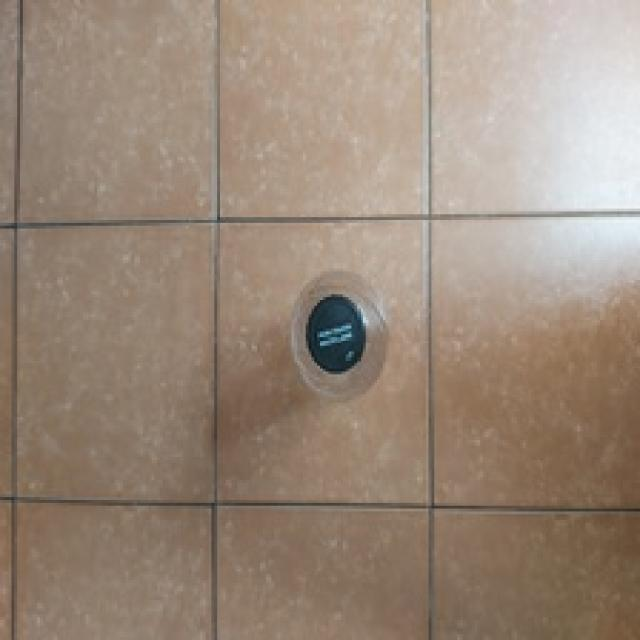garbage: (256, 274, 429, 414)
